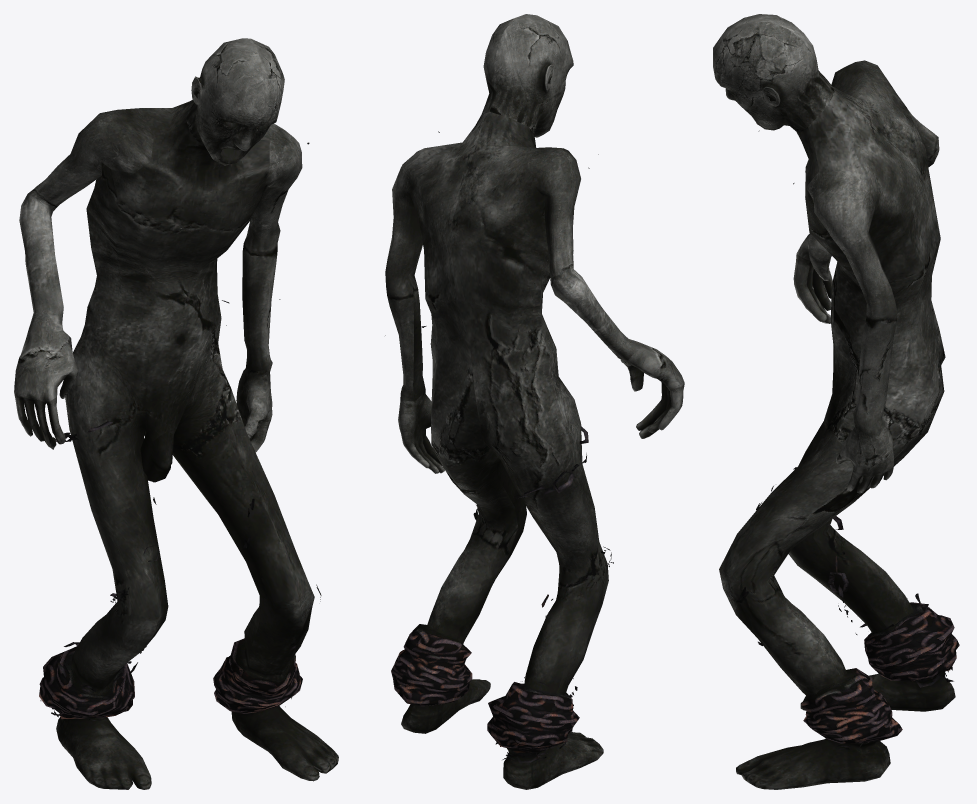
File: suitor_statue_static.dae
3 views of the same model, side by side, from view 1: azimuth 30°, elevation 25°; view 2: azimuth 150°, elevation 25°; view 3: azimuth 270°, elevation 25° (orthographic). The views are drawn at different scales.
Parts seen in each view (by area): view 1: Suitor; view 2: Suitor; view 3: Suitor.
Boxes of the visible parts, <box> form: Suitor: <box>14,38,338,789</box>; Suitor: <box>385,14,684,789</box>; Suitor: <box>713,14,959,789</box>.
Bounding box in the file's own units: 0.8877 × 0.646 × 2.08.
